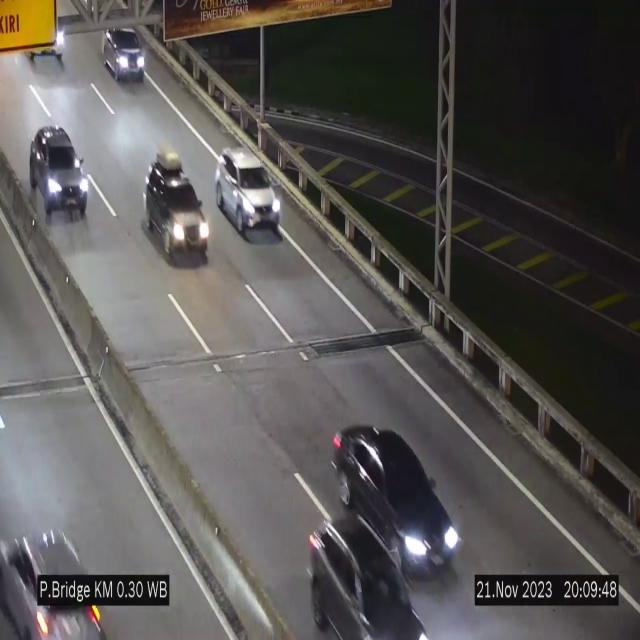Car: (334, 418, 462, 580), (298, 519, 438, 640), (0, 508, 106, 640), (145, 166, 209, 265), (26, 126, 90, 223), (214, 149, 281, 239), (103, 26, 145, 82)
